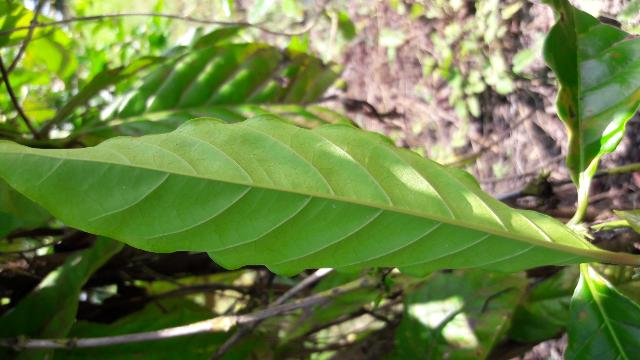healthy: (5, 111, 604, 279)
